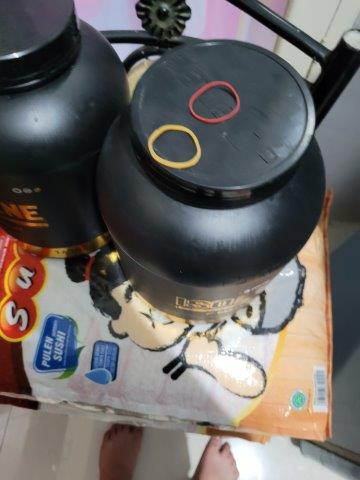karet: (145, 123, 203, 171), (188, 80, 241, 123)
